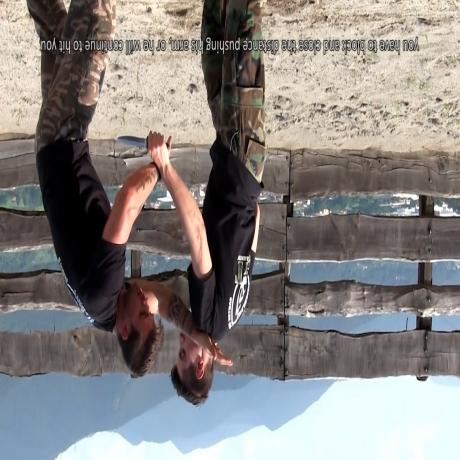1: (26, 0, 168, 381), (171, 0, 267, 405)
weapon: (117, 135, 169, 150)
